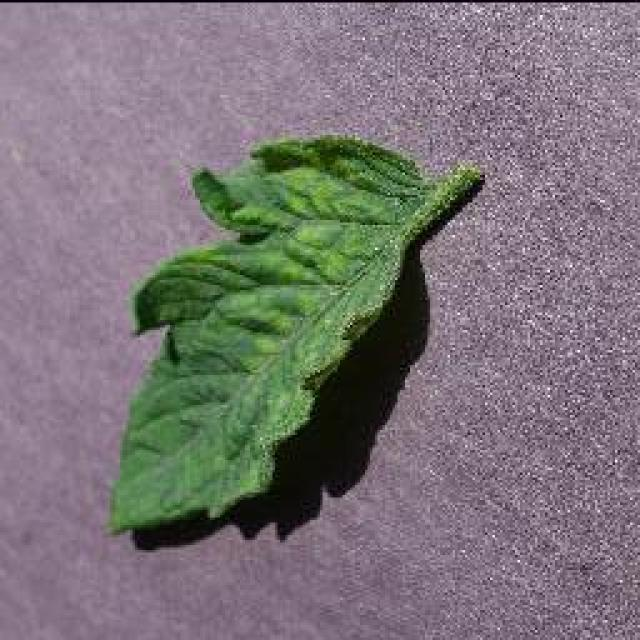Tomato___Tomato_mosaic_virus: (112, 135, 478, 530)
